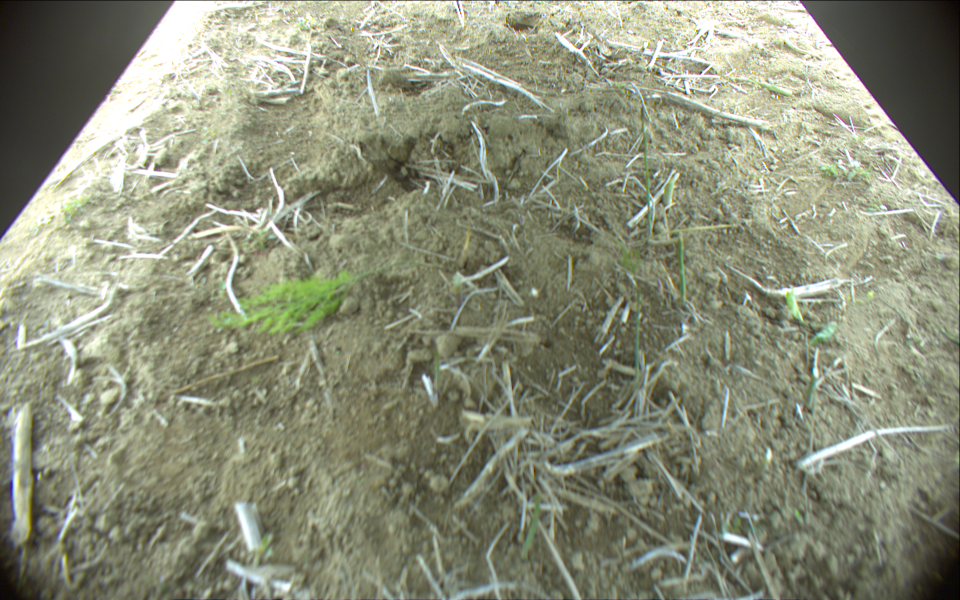aspa: (638, 101, 654, 240), (632, 277, 646, 397), (523, 489, 539, 564), (678, 228, 690, 309), (662, 177, 678, 207)
